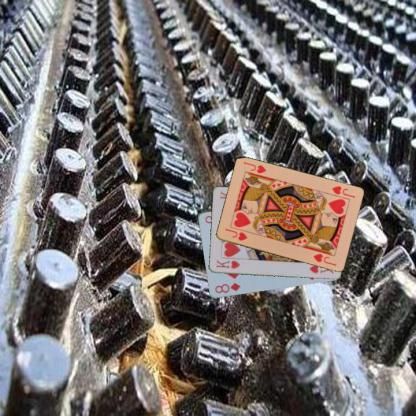8d: (212, 280, 242, 295)
Jh: (223, 225, 249, 242), (329, 183, 356, 199)
Kh: (214, 257, 242, 271)
